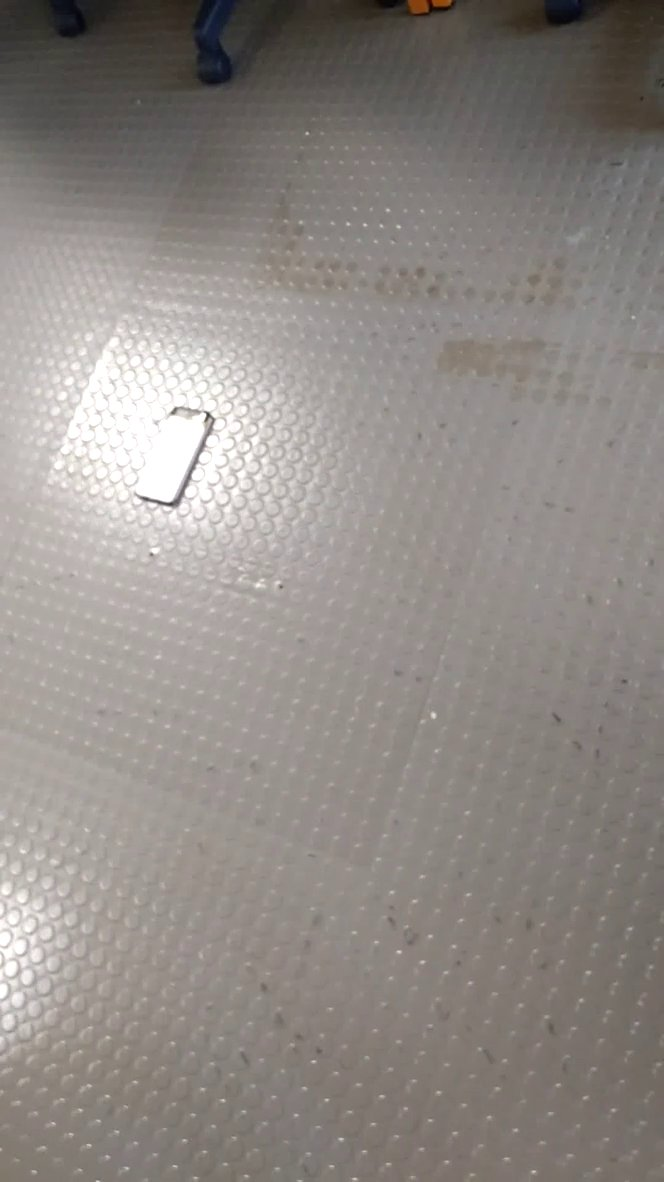phone: (121, 392, 227, 514)
